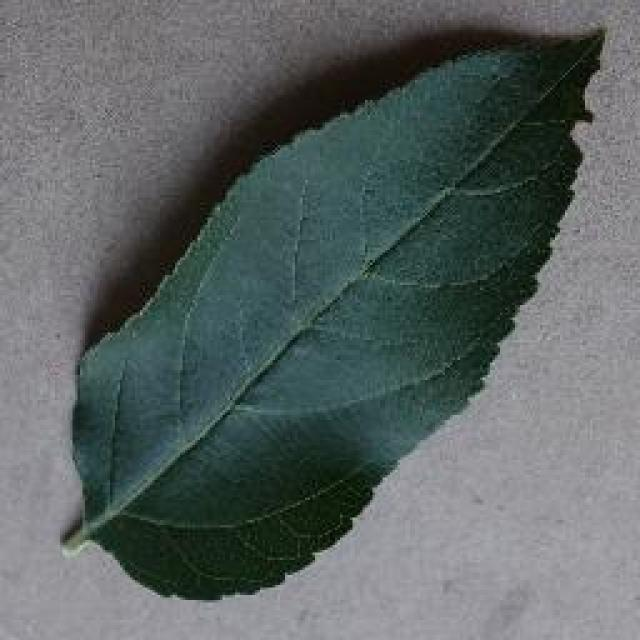Apple___healthy: (50, 5, 618, 620)
